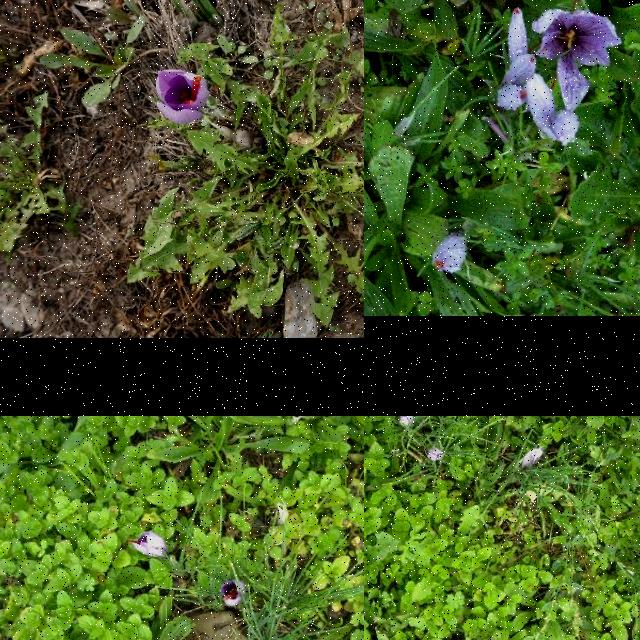flower: (533, 10, 623, 112), (156, 68, 208, 124), (432, 233, 468, 273), (128, 532, 164, 558), (220, 582, 246, 606), (520, 448, 544, 468), (428, 448, 444, 460), (399, 416, 413, 427)
overlap: (496, 9, 580, 147)
